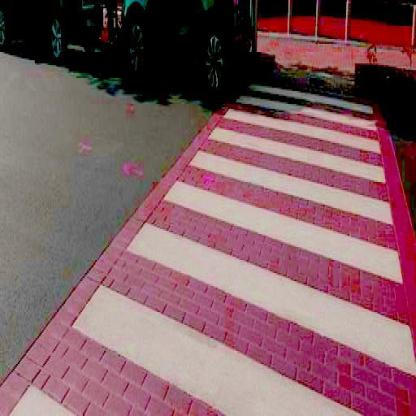crosswalk: (109, 170, 416, 393), (220, 91, 384, 159)
